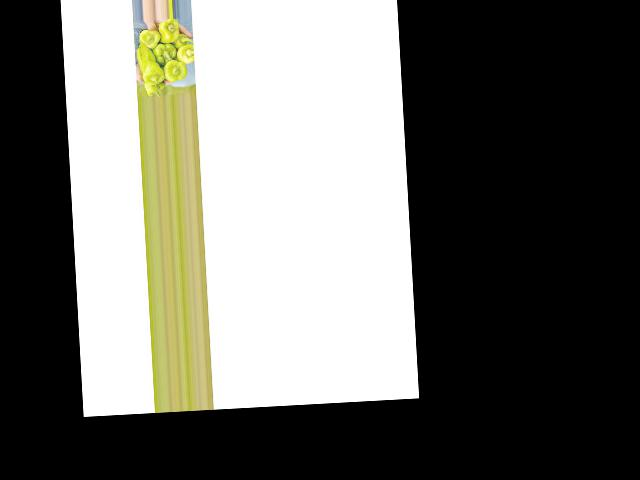bell_pepper: (159, 18, 182, 44)
